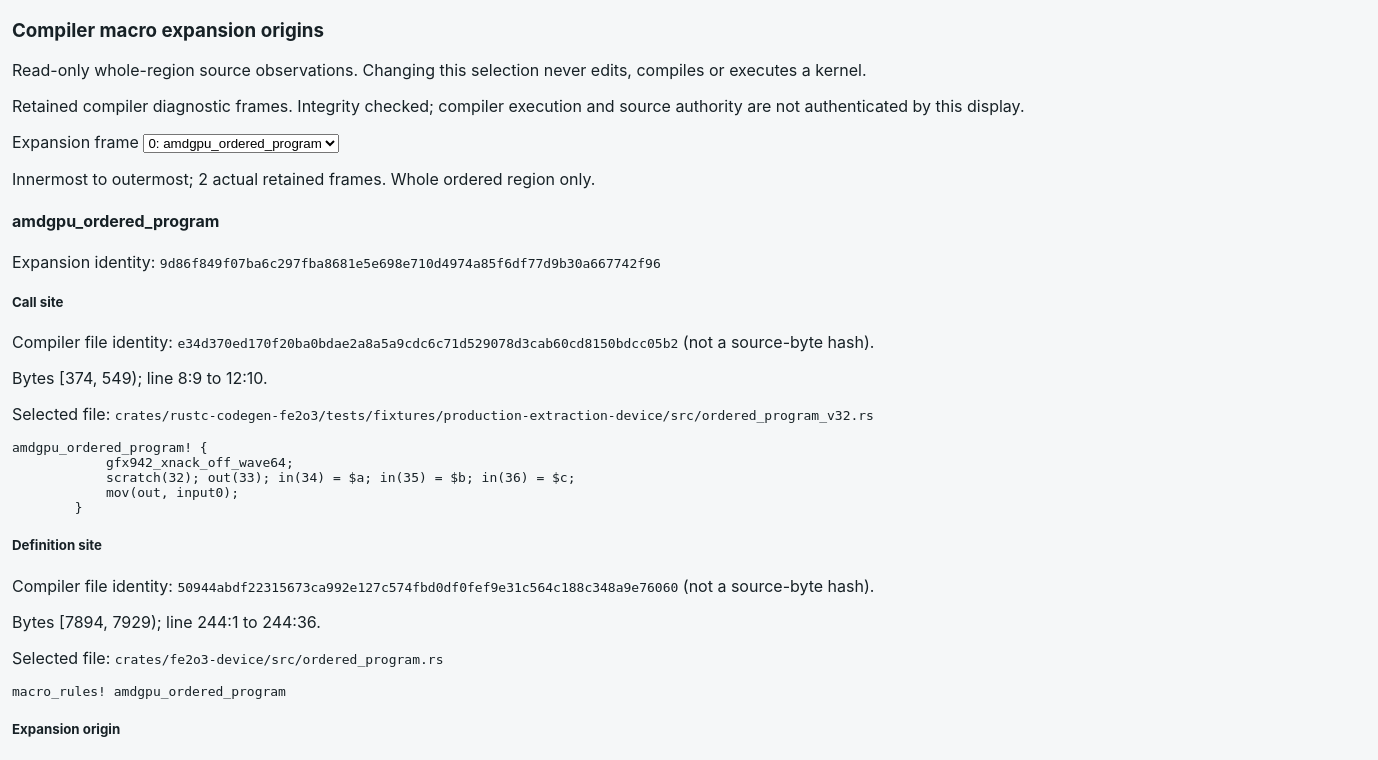
Test: shows exact actual frames, source excerpts and unavailable physical claims
Select "1: ordered_program_wrapper" in the dropdown labelled "Expansion frame": coordinates (241, 144) [143,134,339,153]
(page scrolled)
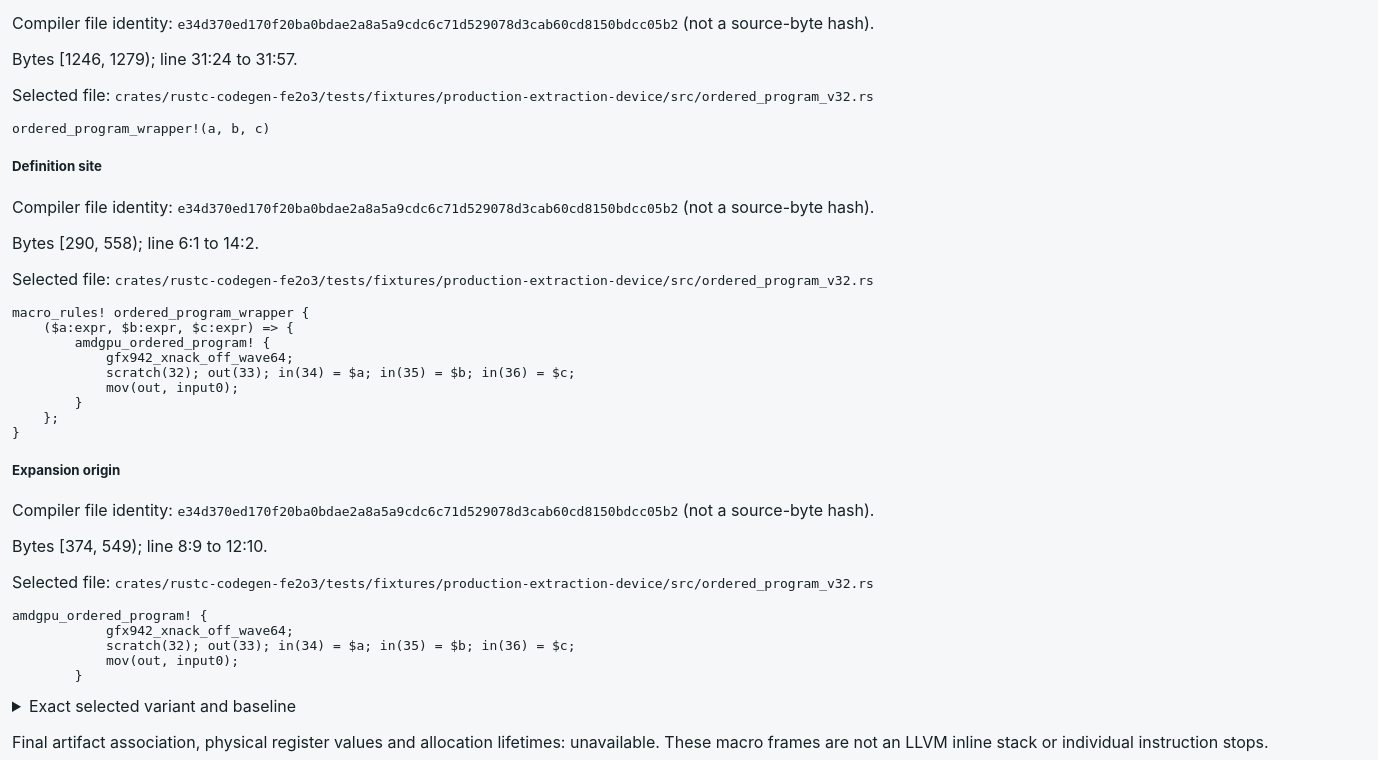
Check: the text "physical register values and allocation lifetimes: unavailable" is shown, box [12,732,1269,752]
Check: the text "ordered_program_wrapper!(a, b, c)" is shown, box [12,121,270,136]
